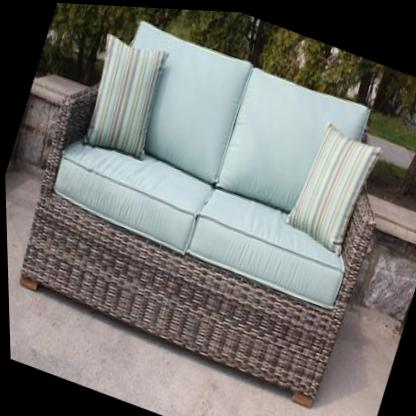Sofa: (0, 0, 413, 413)
